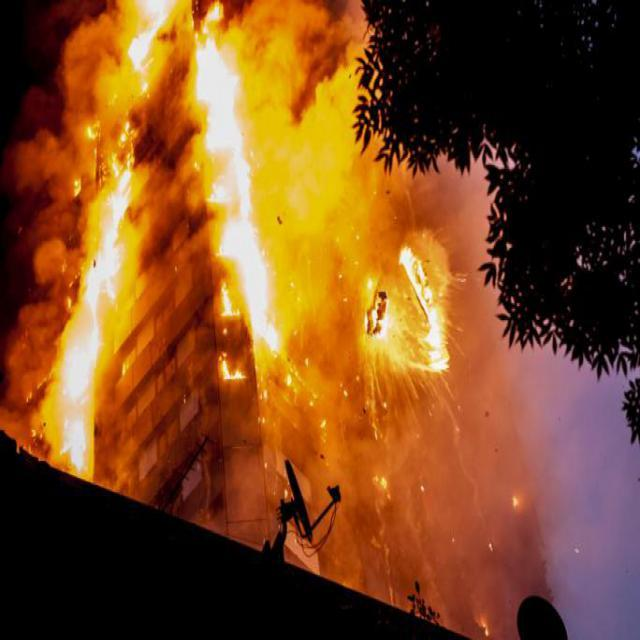Fire: (48, 24, 272, 509), (356, 227, 476, 389)
